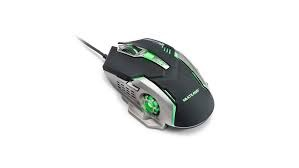mouse: (98, 37, 222, 136)
